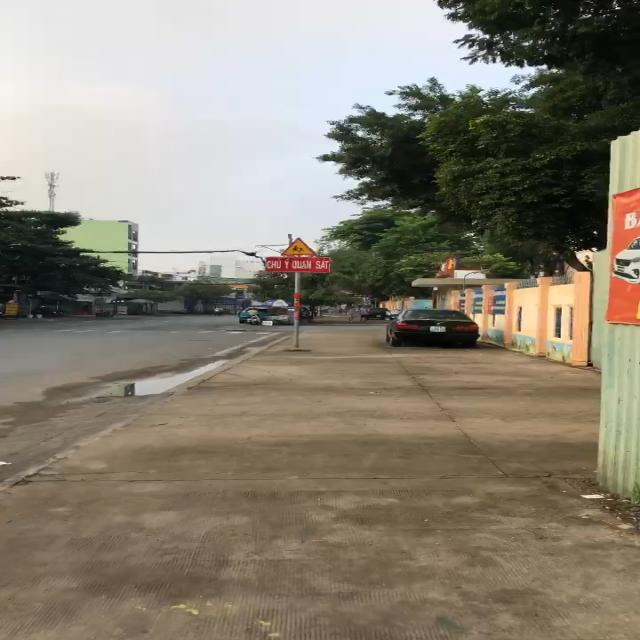Bien bao tre em: (280, 236, 318, 256)
